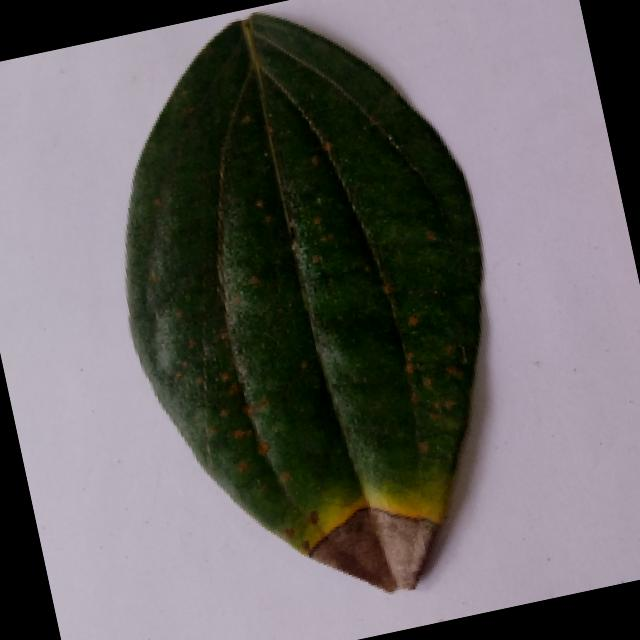footrot: (56, 0, 569, 639)
